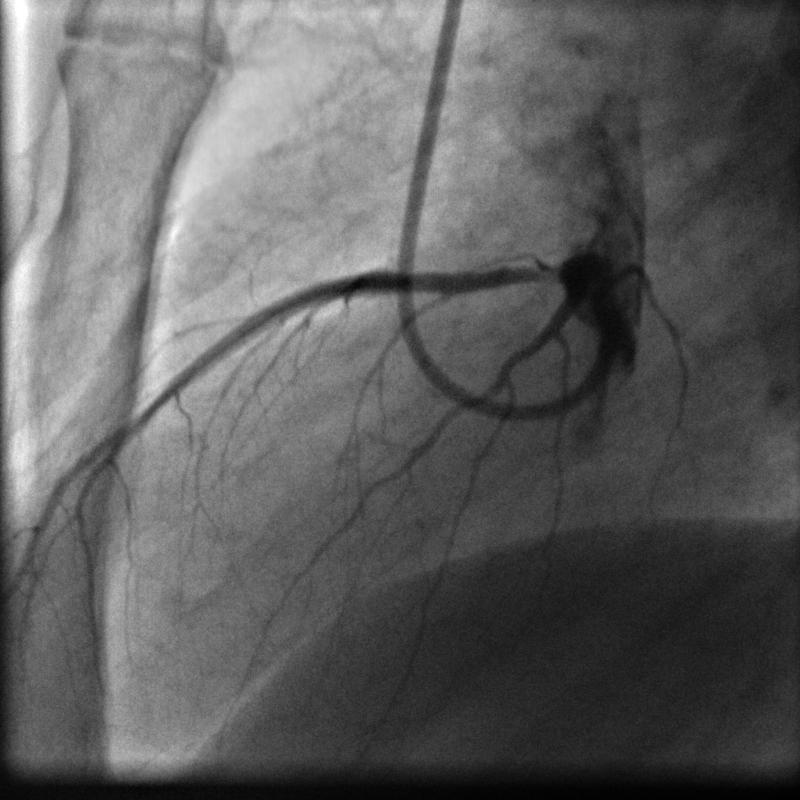Stenosis: (403, 268, 435, 299)
